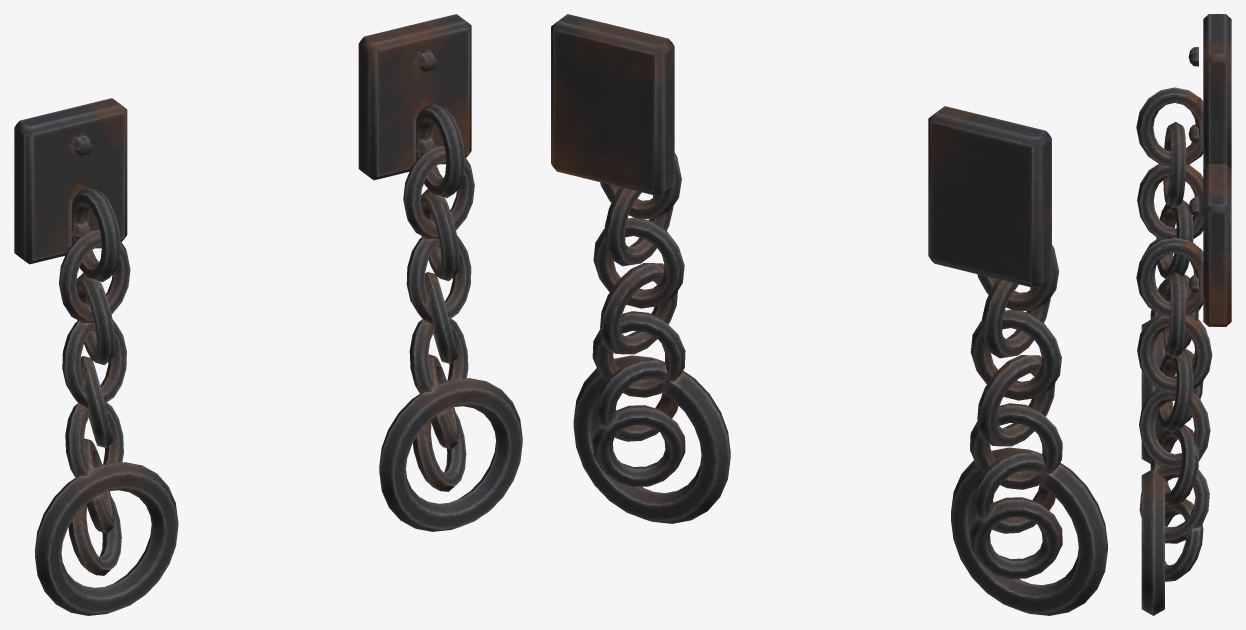
Rendered from manacles_wall.glb.
3 renders of one model, left to right at view 1: azimuth 30°, elevation 25°; view 2: azimuth 150°, elevation 25°; view 3: azimuth 270°, elevation 25°, orthographic. The views are drawn at different scales.
Parts seen in each view (by area): view 1: manacles_wall; view 2: manacles_wall; view 3: manacles_wall.
Part boxes in pixels (x1,y1,x2,y2): manacles_wall: [14, 14, 522, 615]; manacles_wall: [551, 14, 1107, 615]; manacles_wall: [1136, 14, 1231, 615].
Size of the model in its own units: 0.708 by 0.659 by 0.134.
1 material, 1 textured.
